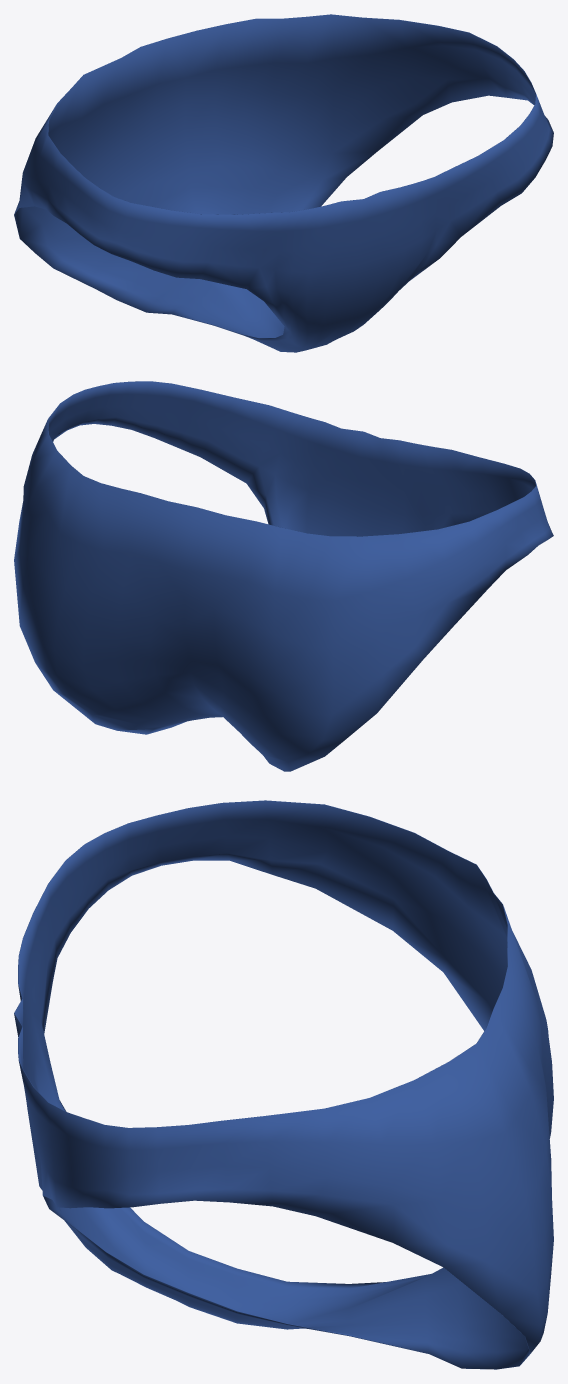
The model's file is Underware_Set_1.fbx.
The picture shows the model from 3 angles, top to bottom: view 1: azimuth 30°, elevation 25°; view 2: azimuth 150°, elevation 25°; view 3: azimuth 270°, elevation 25°; orthographic projection. The views are drawn at different scales.
Visible parts, largest first — view 1: Underware1; view 2: Underware1; view 3: Underware1.
Part boxes in pixels (<box>): Underware1: <box>14,14,553,352</box>; Underware1: <box>14,381,553,771</box>; Underware1: <box>14,800,553,1369</box>.
Size of the model in its own units: 23.53 by 12.21 by 15.7.
